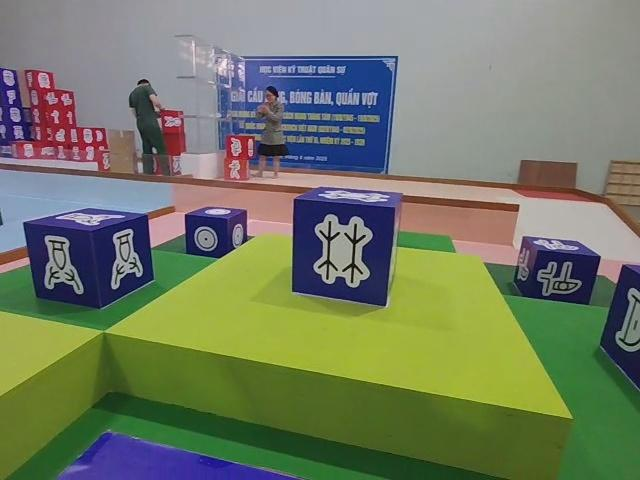R2 Real Blue: (291, 186, 402, 308), (25, 208, 154, 310), (515, 237, 601, 306), (597, 268, 640, 406), (185, 206, 247, 259)
